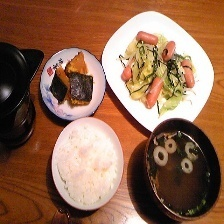rice: (51, 124, 121, 210)
